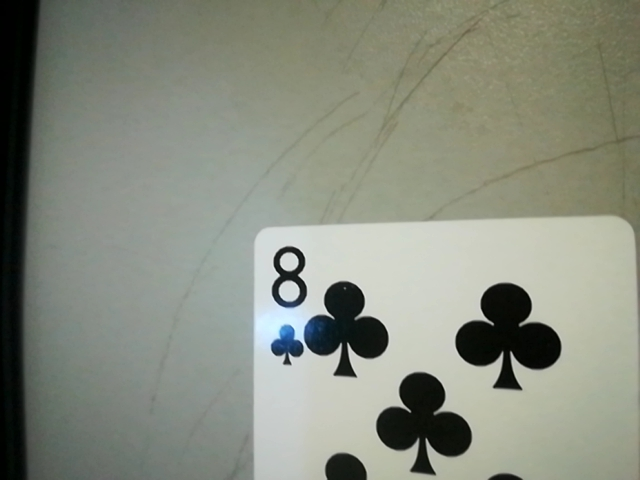mh 8: (256, 235, 313, 369)
